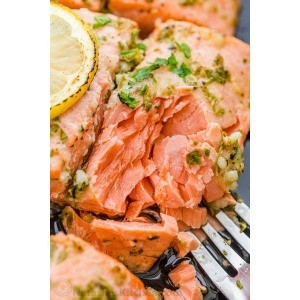salmon_brain food: (57, 23, 225, 286)
